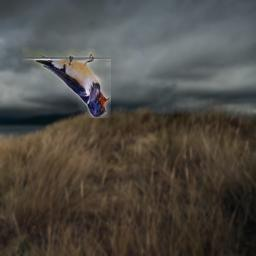Swallow: (22, 47, 111, 118)
